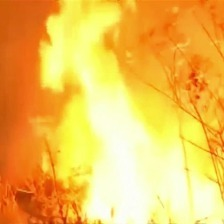incendio: (43, 1, 215, 221), (23, 1, 171, 143)
